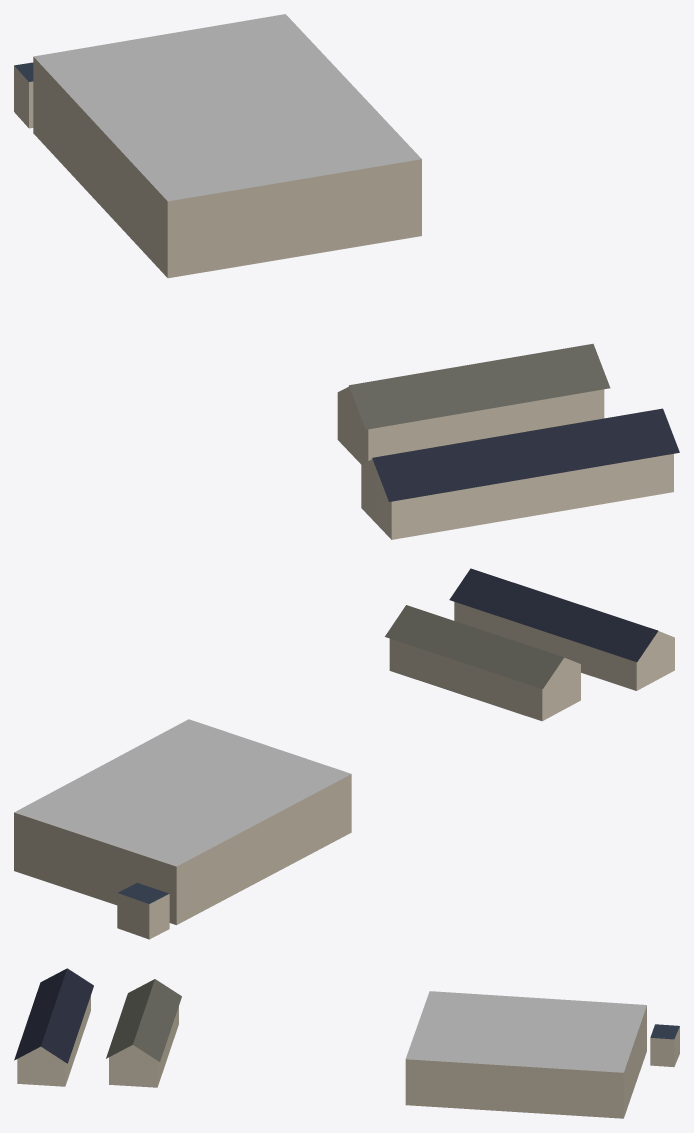
The picture shows the model from 3 angles, top to bottom: view 1: azimuth 30°, elevation 25°; view 2: azimuth 150°, elevation 25°; view 3: azimuth 270°, elevation 25°; orthographic projection. The views are drawn at different scales.
Visible parts, largest first — view 1: tuile; view 2: tuile; view 3: tuile.
Part boxes in pixels (left/top/right/bottom): tuile: left=14, top=14, right=679, bottom=539; tuile: left=14, top=568, right=674, bottom=939; tuile: left=14, top=968, right=679, bottom=1118.
Bounding box in the file's own units: 33.09 × 6.36 × 83.
